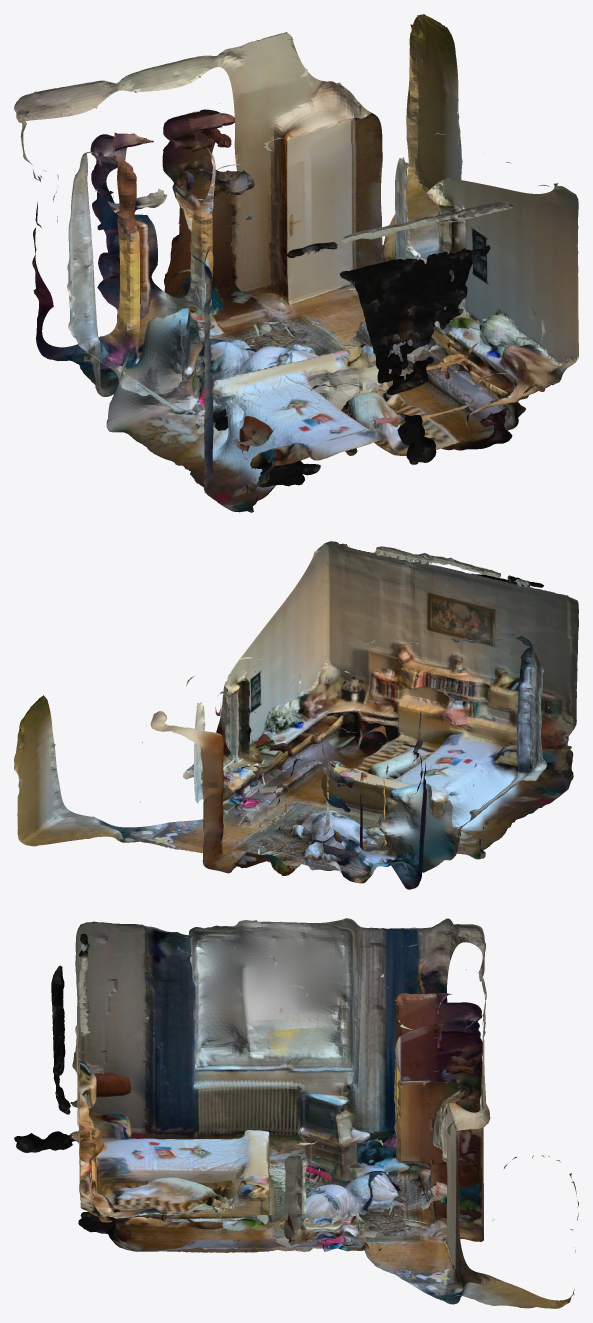
3 views of the same model, one above another, from view 1: azimuth 30°, elevation 25°; view 2: azimuth 150°, elevation 25°; view 3: azimuth 270°, elevation 25° (orthographic). The views are drawn at different scales.
Size of the model in its own units: 6.1 by 3.17 by 7.09.
Materials: 1 (1 with a texture image).
